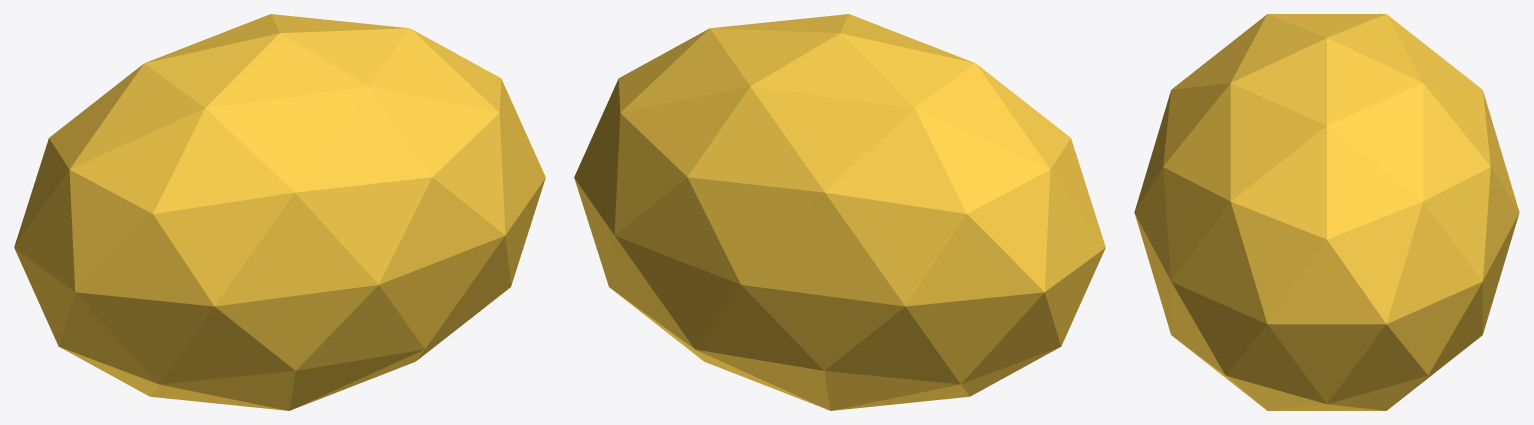
The model's file is RockClimbing_HoldYellow.fbx.
3 views of the same model, side by side, from view 1: azimuth 30°, elevation 25°; view 2: azimuth 150°, elevation 25°; view 3: azimuth 270°, elevation 25° (orthographic). The views are drawn at different scales.
Visible parts, largest first — view 1: HoldYellow; view 2: HoldYellow; view 3: HoldYellow.
Boxes of the visible parts, x1,y1,x2,y2 form: HoldYellow: [14, 14, 545, 410]; HoldYellow: [574, 14, 1105, 410]; HoldYellow: [1134, 14, 1519, 410].
Size of the model in its own units: 0.2473 by 0.18 by 0.18.
